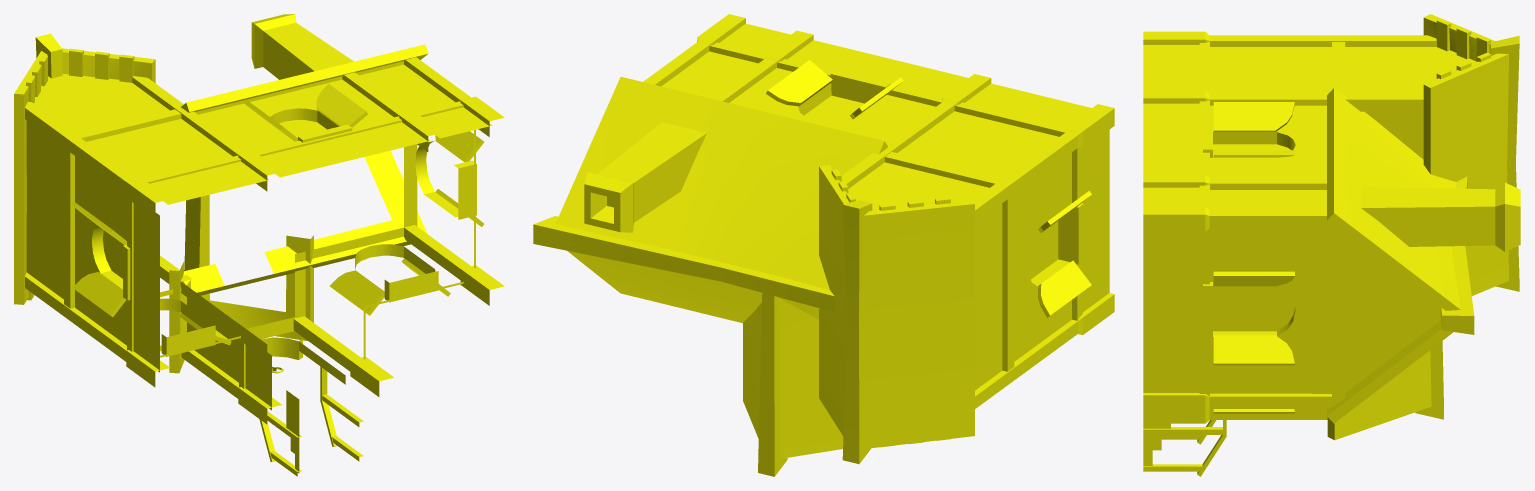
File: house2.glb
The picture shows the model from 3 angles, left to right: view 1: azimuth 30°, elevation 25°; view 2: azimuth 150°, elevation 25°; view 3: azimuth 270°, elevation 25°; orthographic projection. The views are drawn at different scales.
Visible parts, largest first — view 1: House2; view 2: House2; view 3: House2.
Part boxes in pixels (x1,y1,x2,y2): House2: [14, 14, 504, 476]; House2: [533, 14, 1114, 476]; House2: [1143, 14, 1520, 476].
Size of what is drawn, in the model's own units: 9.18 by 7.67 by 7.26.
1 material, 1 textured.
